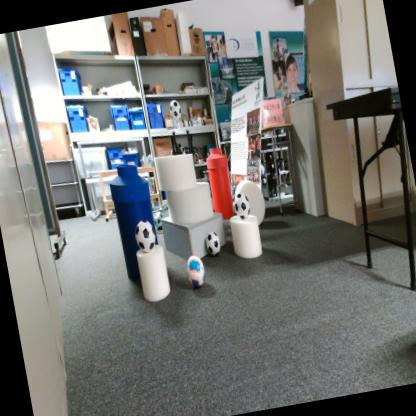ball: (132, 218, 158, 256), (132, 218, 158, 255), (184, 252, 207, 288), (232, 190, 252, 221), (204, 230, 223, 258), (168, 97, 183, 121), (152, 209, 164, 228)
